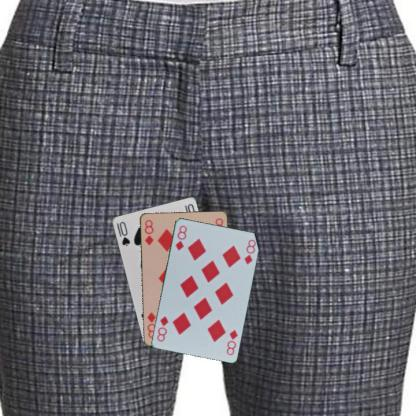10s: (114, 219, 131, 247)
8d: (173, 222, 188, 252), (224, 326, 238, 356), (142, 217, 154, 246)
